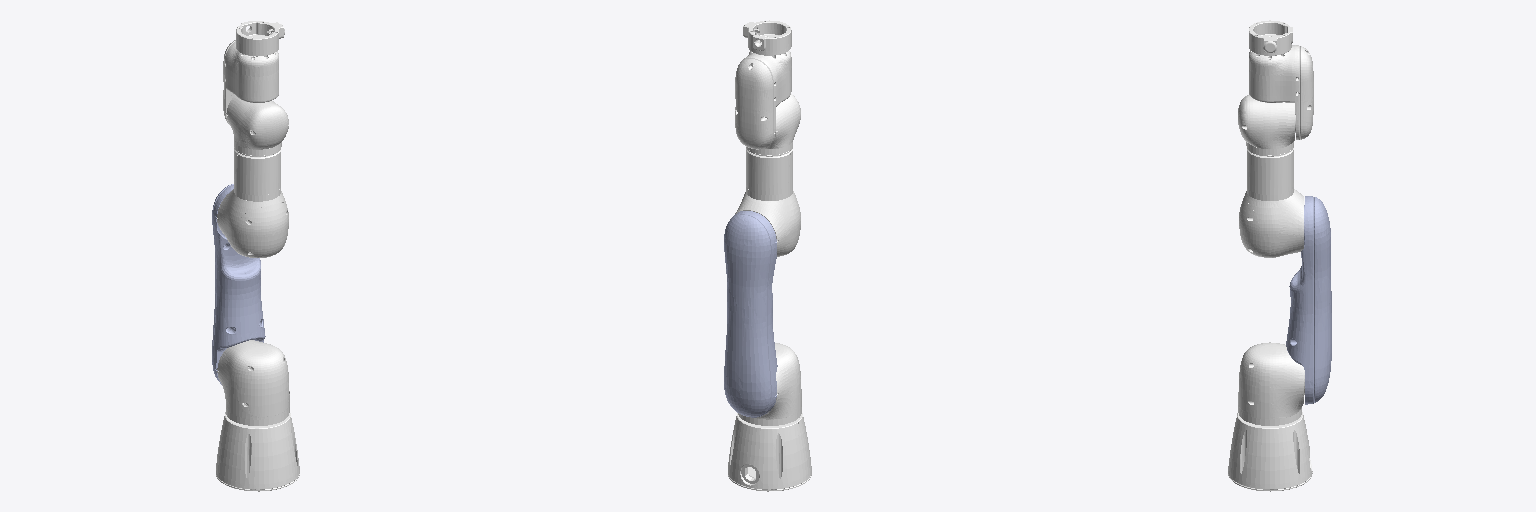
The robot description file, URDF, robot "arm380":
<?xml version="1.0" encoding="utf-8"?>
<robot name="arm380">

  <link name="base_link">
    <visual>
      <origin xyz="0 0 0" rpy="0 0 0" />
      <geometry>
        <mesh filename="package://robot_description/meshes/arm380/base_link.STL" />
      </geometry>
      <material name="">
        <color rgba="1 1 1 1" />
      </material>
    </visual>
    <collision>
      <origin xyz="0 0 0" rpy="0 0 0" />
      <geometry>
        <mesh filename="package://robot_description/meshes/arm380/base_link.STL" />
      </geometry>
    </collision>
    <inertial>
      <origin xyz="-8.45966691214841E-08 -0.00155647917777516 0.0342637301024087" rpy="0 0 0" />
      <mass value="0.239168935948052" />
      <inertia
        ixx="0.000178388289470626"
        ixy="-4.61838685418239E-08"
        ixz="2.91248649387554E-08"
        iyy="0.000188827699788914"
        iyz="-5.92308710944228E-06"
        izz="0.000222529456446662" />
    </inertial>
  </link>

  <link name="Link1">
    <visual>
      <origin xyz="0 0 0" rpy="0 0 0" />
      <geometry>
        <mesh filename="package://robot_description/meshes/arm380/Link1.STL" />
      </geometry>
      <material name="">
        <color rgba="1 1 1 1" />
      </material>
    </visual>
    <collision>
      <origin xyz="0 0 0" rpy="0 0 0" />
      <geometry>
        <mesh filename="package://robot_description/meshes/arm380/Link1.STL" />
      </geometry>
    </collision>
    <inertial>
      <origin xyz="-0.000162164450388651 0.00917047689216971 0.0389740940033837" rpy="0 0 0" />
      <mass value="0.126658594854093" />
      <inertia
        ixx="6.79996673861983E-05"
        ixy="-4.87105811162039E-08"
        ixz="-4.26467790658147E-08"
        iyy="8.11927087870196E-05"
        iyz="-3.28027008835361E-06"
        izz="6.7801345702838E-05" />
    </inertial>
  </link>

  <link name="Link2">
    <visual>
      <origin xyz="0 0 0" rpy="0 0 0" />
      <geometry>
        <mesh filename="package://robot_description/meshes/arm380/Link2.STL" />
      </geometry>
      <material name="">
        <color rgba="0.792156862745098 0.819607843137255 0.933333333333333 1" />
      </material>
    </visual>
    <collision>
      <origin xyz="0 0 0" rpy="0 0 0" />
      <geometry>
        <mesh filename="package://robot_description/meshes/arm380/Link2.STL" />
      </geometry>
    </collision>
    <inertial>
      <origin xyz="1.53729011855924E-05 0.0306353629749071 0.1214226214871" rpy="0 0 0" />
      <mass value="0.160117926518548" />
      <inertia
        ixx="0.000405769004136248"
        ixy="-2.72160418191171E-08"
        ixz="1.5809428814171E-07"
        iyy="0.000427558530199614"
        iyz="-3.91657445519094E-06"
        izz="5.37438489585082E-05" />
    </inertial>
  </link>

  <link name="Link3">
    <visual>
      <origin xyz="0 0 0" rpy="0 0 0" />
      <geometry>
        <mesh filename="package://robot_description/meshes/arm380/Link3.STL" />
      </geometry>
      <material name="">
        <color rgba="1 1 1 1" />
      </material>
    </visual>
    <collision>
      <origin xyz="0 0 0" rpy="0 0 0" />
      <geometry>
        <mesh filename="package://robot_description/meshes/arm380/Link3.STL" />
      </geometry>
    </collision>
    <inertial>
      <origin xyz="-9.78329976952861E-06 0.00329751593660976 0.0314462978757887" rpy="0 0 0" />
      <mass value="0.127031840994737" />
      <inertia
        ixx="7.33505785300731E-05"
        ixy="-6.00024592372626E-09"
        ixz="-3.1447388035994E-08"
        iyy="8.79087854697792E-05"
        iyz="2.50409400693757E-06"
        izz="6.44531281833318E-05" />
    </inertial>
  </link>

  <link name="Link4">
    <visual>
      <origin xyz="0 0 0" rpy="0 0 0" />
      <geometry>
        <mesh filename="package://robot_description/meshes/arm380/Link4.STL" />
      </geometry>
      <material name="">
        <color rgba="1 1 1 1" />
      </material>
    </visual>
    <collision>
      <origin xyz="0 0 0" rpy="0 0 0" />
      <geometry>
        <mesh filename="package://robot_description/meshes/arm380/Link4.STL" />
      </geometry>
    </collision>
    <inertial>
      <origin xyz="1.55531980251399E-05 0.00255449571402962 0.0217114896587859" rpy="0 0 0" />
      <mass value="0.0643122144006669" />
      <inertia
        ixx="2.40388680924498E-05"
        ixy="-2.67332465659579E-08"
        ixz="2.52373513835164E-09"
        iyy="2.40963972005928E-05"
        iyz="-3.10170706823566E-07"
        izz="2.71757225881803E-05" />
    </inertial>
  </link>

  <link name="Link5">
    <visual>
      <origin xyz="0 0 0" rpy="0 0 0" />
      <geometry>
        <mesh filename="package://robot_description/meshes/arm380/Link5.STL" />
      </geometry>
      <material name="">
        <color rgba="1 1 1 1" />
      </material>
    </visual>
    <collision>
      <origin xyz="0 0 0" rpy="0 0 0" />
      <geometry>
        <mesh filename="package://robot_description/meshes/arm380/Link5.STL" />
      </geometry>
    </collision>
    <inertial>
      <origin xyz="-9.45194566079898E-06 0.0143895941395145 0.0478798134472525" rpy="0 0 0" />
      <mass value="0.0749072920283932" />
      <inertia
        ixx="4.90960442597514E-05"
        ixy="6.32916513768678E-09"
        ixz="4.38441934313694E-08"
        iyy="5.08411188953791E-05"
        iyz="5.97145611574681E-06"
        izz="2.2770445675749E-05" />
    </inertial>
  </link>

  <link name="Link6">
    <visual>
      <origin xyz="0 0 0" rpy="0 0 0" />
      <geometry>
        <mesh filename="package://robot_description/meshes/arm380/Link6.STL" />
      </geometry>
      <material name="">
        <color rgba="1 1 1 1" />
      </material>
    </visual>
    <collision>
      <origin xyz="0 0 0" rpy="0 0 0" />
      <geometry>
        <mesh filename="package://robot_description/meshes/arm380/Link6.STL" />
      </geometry>
    </collision>
    <inertial>
      <origin xyz="0.00233595515129295 -0.000272972686685385 0.00432290542703301" rpy="0 0 0" />
      <mass value="0.0147843006339284" />
      <inertia
        ixx="3.01704467102817E-06"
        ixy="-1.40902271817962E-09"
        ixz="-1.83067869116528E-08"
        iyy="3.17721110124103E-06"
        iyz="1.40067560416999E-08"
        izz="5.32692092118558E-06" />
    </inertial>
  </link>
  <link name="world"/>
  <joint name="base_joint" type="fixed">
      <parent link="world"/>
      <child link="base_link"/>
      <origin xyz="0 0 0" rpy="0 0 0" />
      <axis xyz="0 0 1" />
  </joint>

  <joint name="joint1" type="revolute">
    <origin xyz="0.000159911339861453 0 0.0690000000532987" rpy="0 0 0" />
    <parent link="base_link" />
    <child link="Link1" />
    <axis xyz="0 0 1" />
    <limit lower="-2.9670" upper="2.9670" effort="9" velocity="3.14" />
  </joint>
  
  <joint name="joint2" type="revolute">
    <origin xyz="-0.000159912204403003 0 0.0420000000395224" rpy="0 0 0" />
    <parent link="Link1" />
    <child link="Link2" />
    <axis xyz="0 -0.999999999999993 0" />
    <limit lower="-1.6232" upper="1.6232" effort="9" velocity="3.14" />
  </joint>
  
  <joint name="joint3" type="revolute">
    <origin xyz="0 0 0.174999999999518" rpy="0 0 0" />
    <parent link="Link2" />
    <child link="Link3" />
    <axis xyz="0 1 0" />
    <limit lower="-2.6704" upper="2.6704" effort="9" velocity="3.14" />
  </joint>

  <joint name="joint4" type="revolute">
    <origin xyz="0 0 0.093999999906747" rpy="0 -3.44811666922302E-05 0" />
    <parent link="Link3" />
    <child link="Link4" />
    <axis xyz="3.44731977919239E-05 0 0.999999999375432" />
    <limit lower="-2.7576" upper="2.7576" effort="3.3" velocity="3.14" />
  </joint>

  <joint name="joint5" type="revolute">
    <origin xyz="0 0 0.0264600000166236" rpy="0 3.44811666961226E-05 0" />
    <parent link="Link4" />
    <child link="Link5" />
    <axis xyz="0 1 0" />
    <limit lower="-1.5359" upper="1.5359" effort="3.3" velocity="3.14" />
  </joint>
  
  <joint name="joint6" type="revolute">
    <origin xyz="0 0 0.0870000000029356" rpy="0 -3.44811666961239E-05 0" />
    <parent link="Link5" />
    <child link="Link6" />
    <axis xyz="0 0 1" />
    <limit lower="-2.9670" upper="2.9670" effort="3.3" velocity="3.14" />
  </joint>

</robot>

--- Render facts (derived) ---
The picture shows the robot from 3 angles, left to right: view 1: azimuth 30°, elevation 25°; view 2: azimuth 150°, elevation 25°; view 3: azimuth 270°, elevation 25°; orthographic projection.
Robot: arm380 — 8 links, 7 joints (6 revolute, 1 fixed); root link world; default pose: every joint at zero.
Links seen in each view (by area): view 1: Link3, base_link, Link1, Link2, Link4, Link5, Link6; view 2: Link2, base_link, Link5, Link3, Link1, Link6, Link4; view 3: Link2, Link3, base_link, Link1, Link5, Link4, Link6.
Link boxes in pixels (x1,y1,x2,y2): Link3: (217,149,288,257); base_link: (216,412,299,491); Link1: (217,340,289,425); Link2: (212,184,265,384); Link4: (226,95,288,156); Link5: (223,40,278,124); Link6: (236,21,284,56); Link2: (724,211,777,417); base_link: (728,413,811,491); Link5: (735,42,791,149); Link3: (735,148,800,256); Link1: (738,343,801,425); Link6: (743,20,791,55); Link4: (746,94,800,156); Link2: (1286,196,1331,404); Link3: (1239,148,1303,257); base_link: (1228,412,1312,491); Link1: (1238,342,1304,425); Link5: (1249,45,1313,139); Link4: (1238,95,1295,156); Link6: (1249,20,1292,55).
Bounding box of the posed robot: 0.0876 × 0.1078 × 0.508 m (x, y, z).
Meshes: 7 distinct files referenced, 7 mesh visuals loaded (7 binary STL).